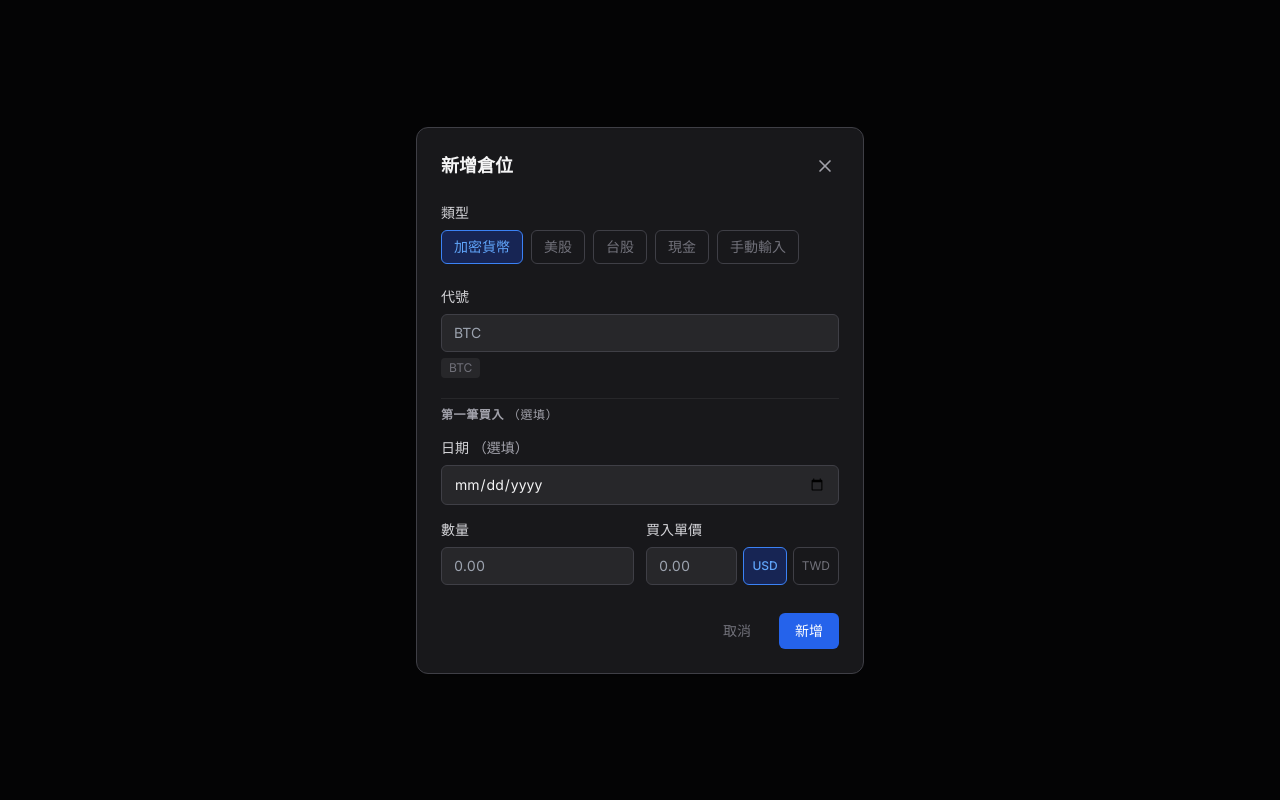
Scenario: new position form › shows total hint when qty and price are filled
The width and height of the screenshot is (1280, 800).
In the number field labelled "數量": (538, 566) x1=441 y1=546 x2=634 y2=584, type "1000"
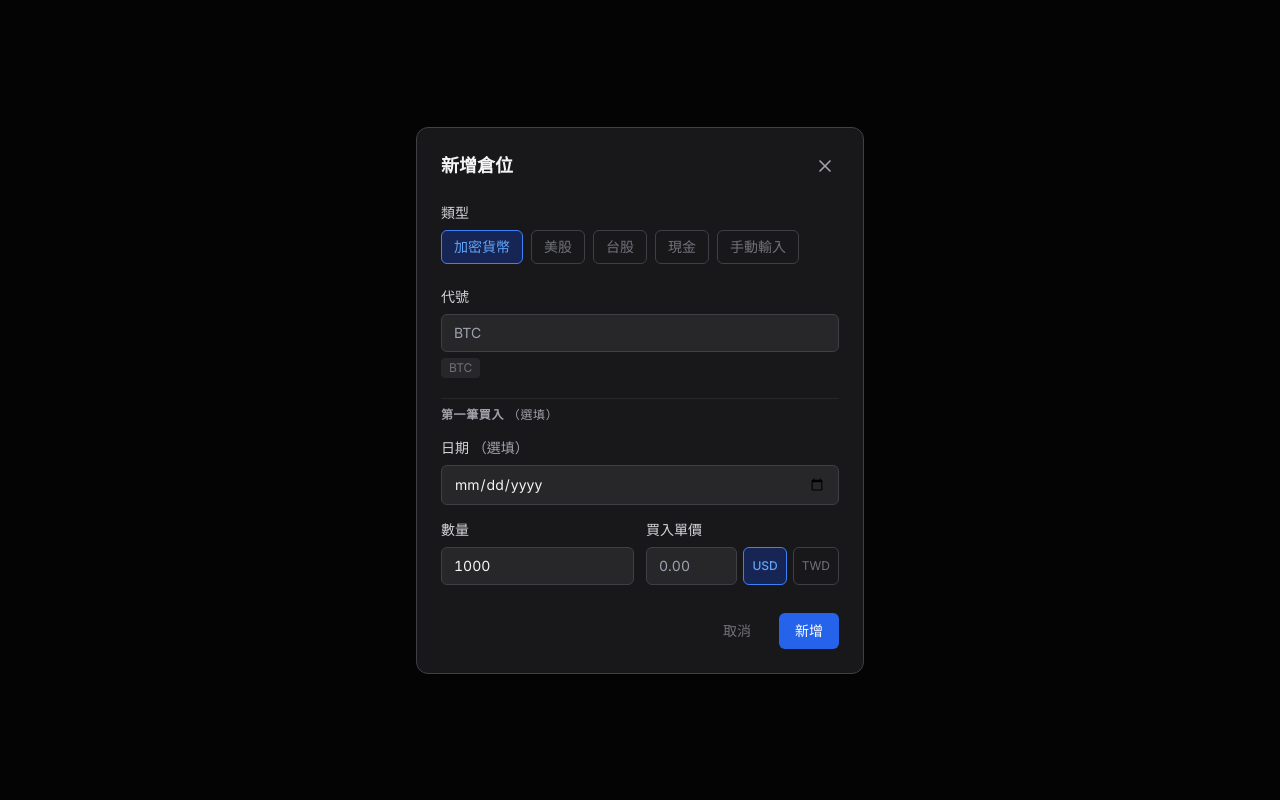
In the number field labelled "買入單價": (692, 566) x1=646 y1=546 x2=738 y2=584, type "0.5"
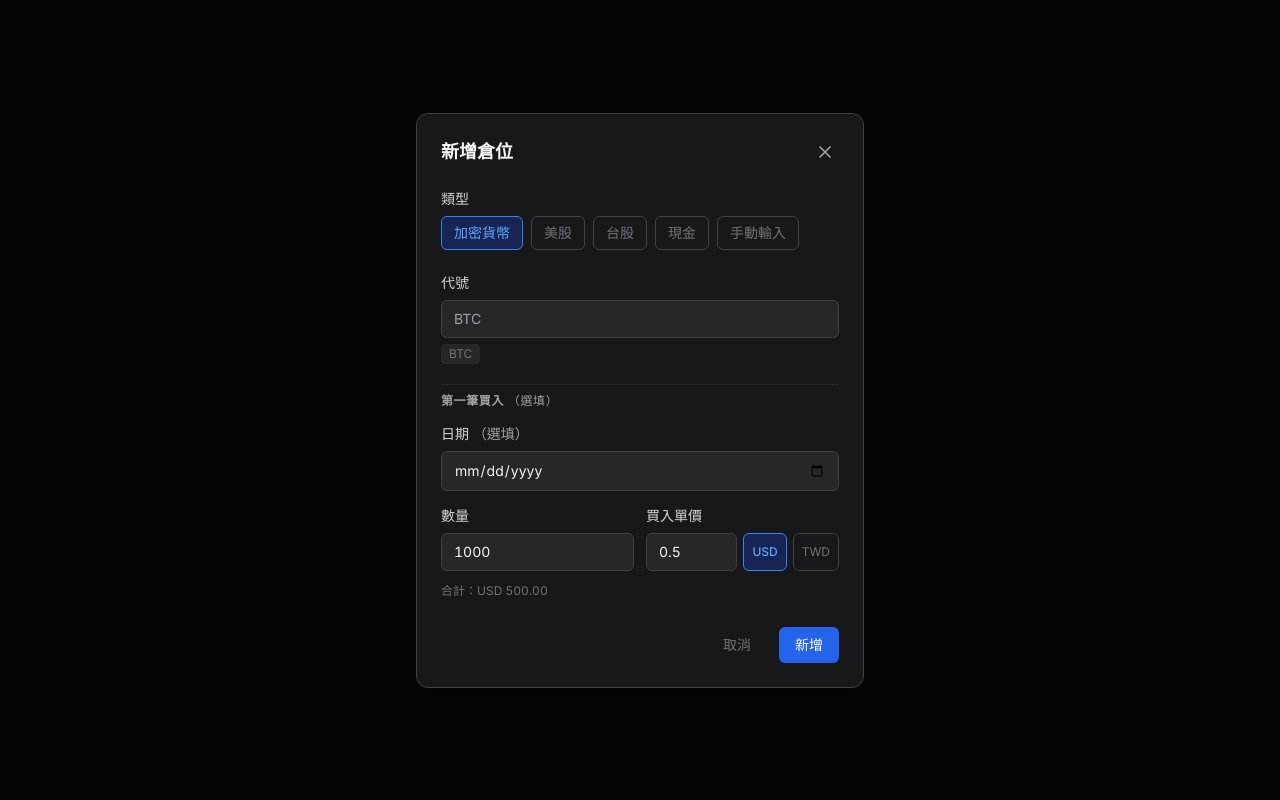
Expected: the text "合計：USD 500.00" is shown, x1=441 y1=582 x2=548 y2=598
